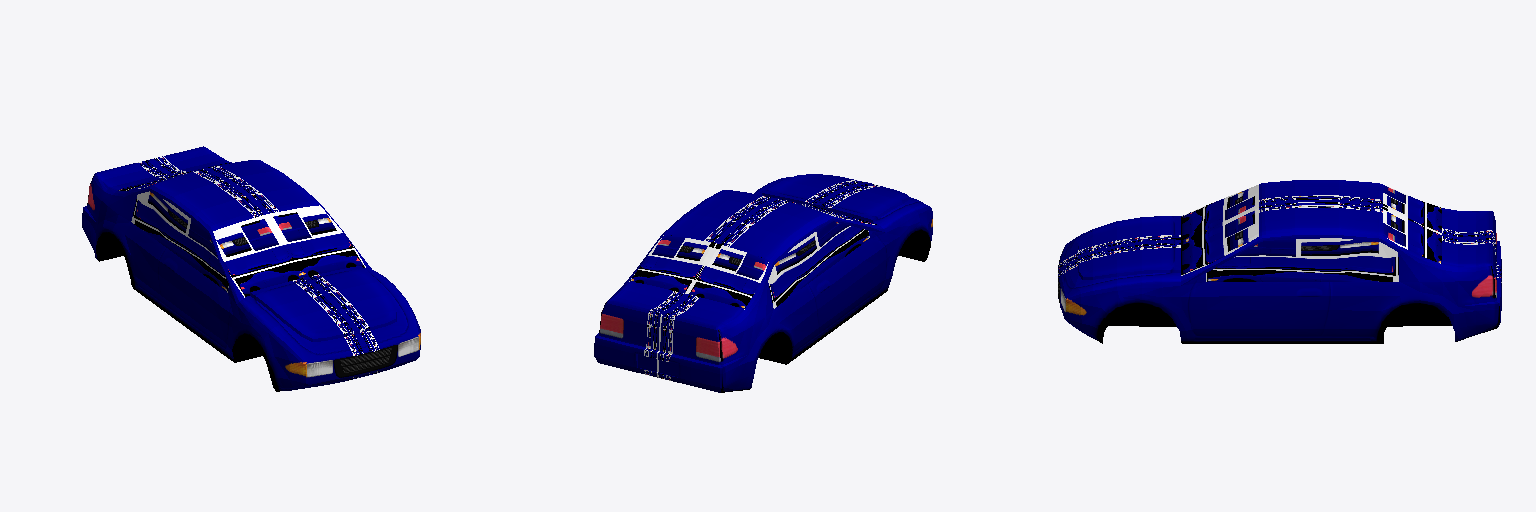
3 views of the same model, side by side, from view 1: azimuth 30°, elevation 25°; view 2: azimuth 150°, elevation 25°; view 3: azimuth 270°, elevation 25° (orthographic).
Visible parts, largest first — view 1: Car_Blue_Cube.001; view 2: Car_Blue_Cube.001; view 3: Car_Blue_Cube.001.
Part boxes in pixels (x1,y1,x2,y2): Car_Blue_Cube.001: (82,146,420,391); Car_Blue_Cube.001: (594,174,932,392); Car_Blue_Cube.001: (1058,180,1501,343).
Size of the model in its own units: 1.87 by 1.32 by 4.8.
Materials: 5 (1 with a texture image).